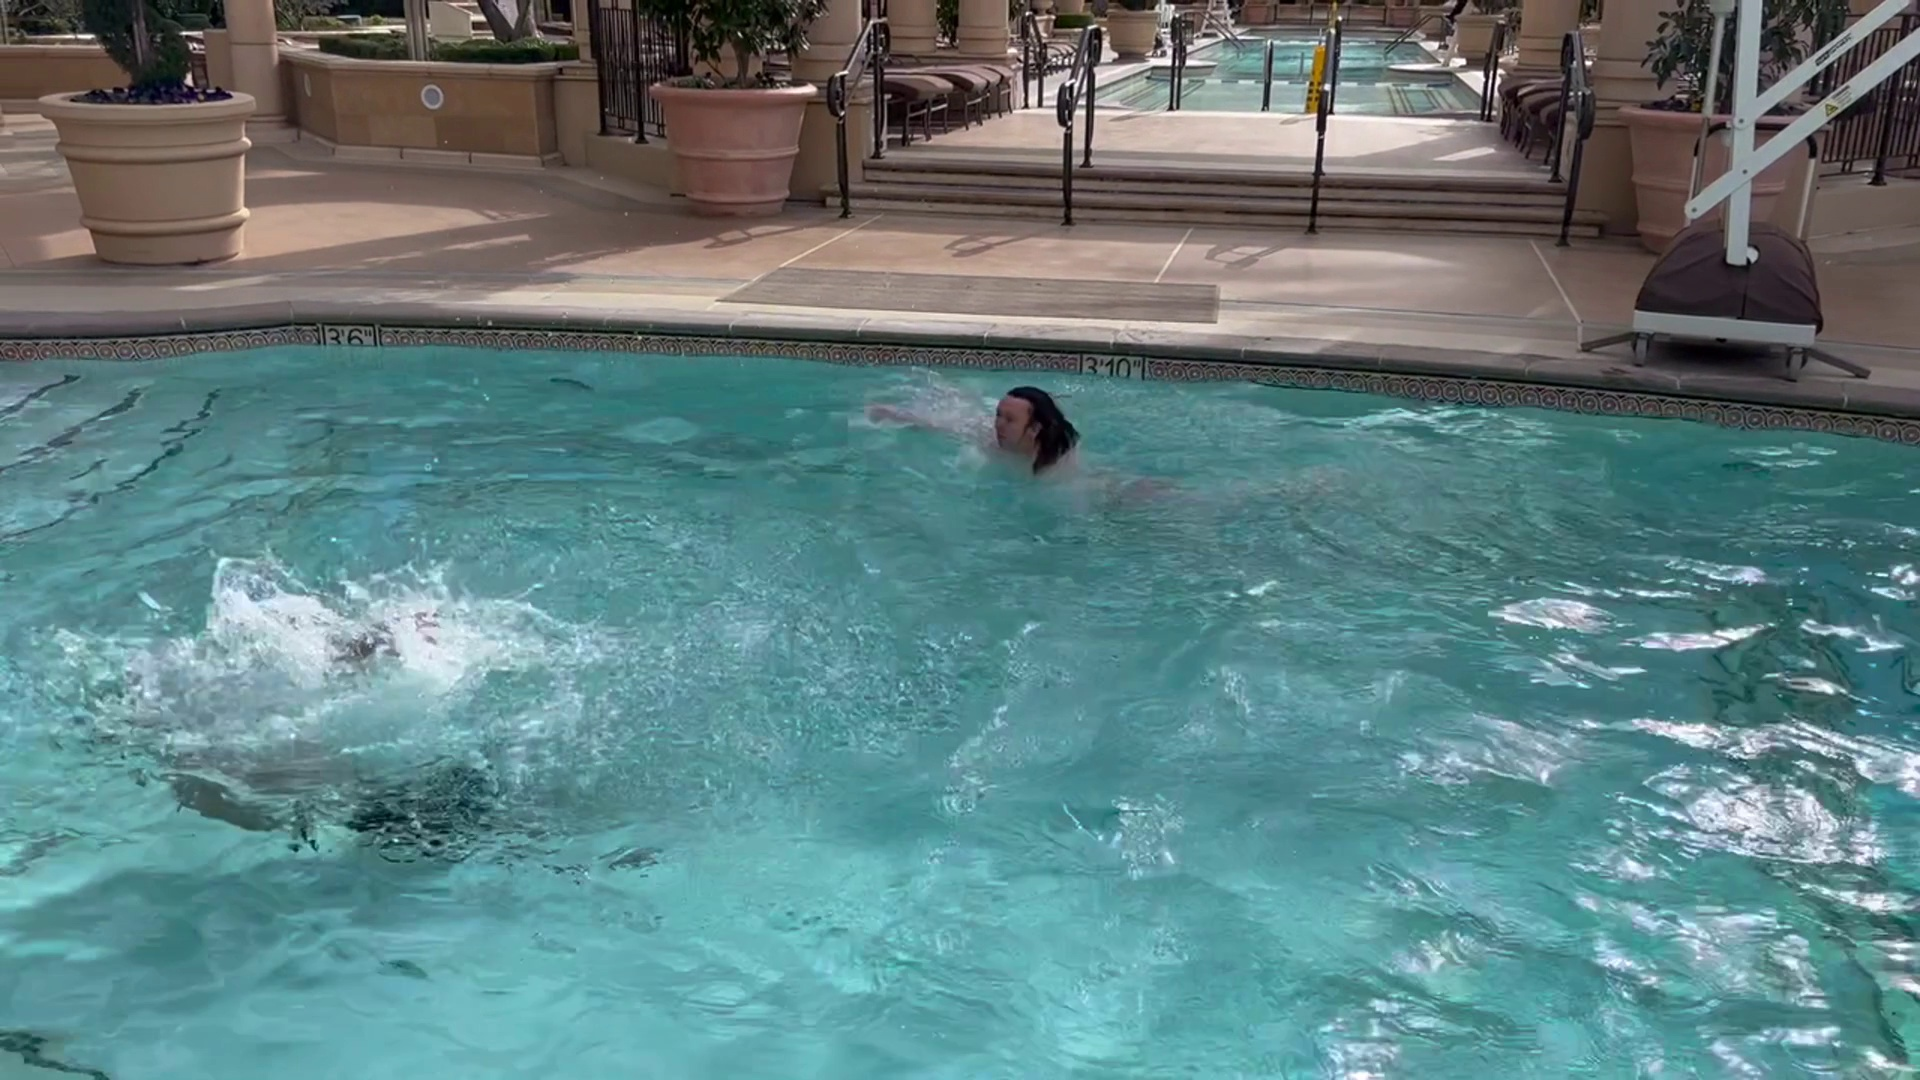danger: (38, 530, 607, 827)
